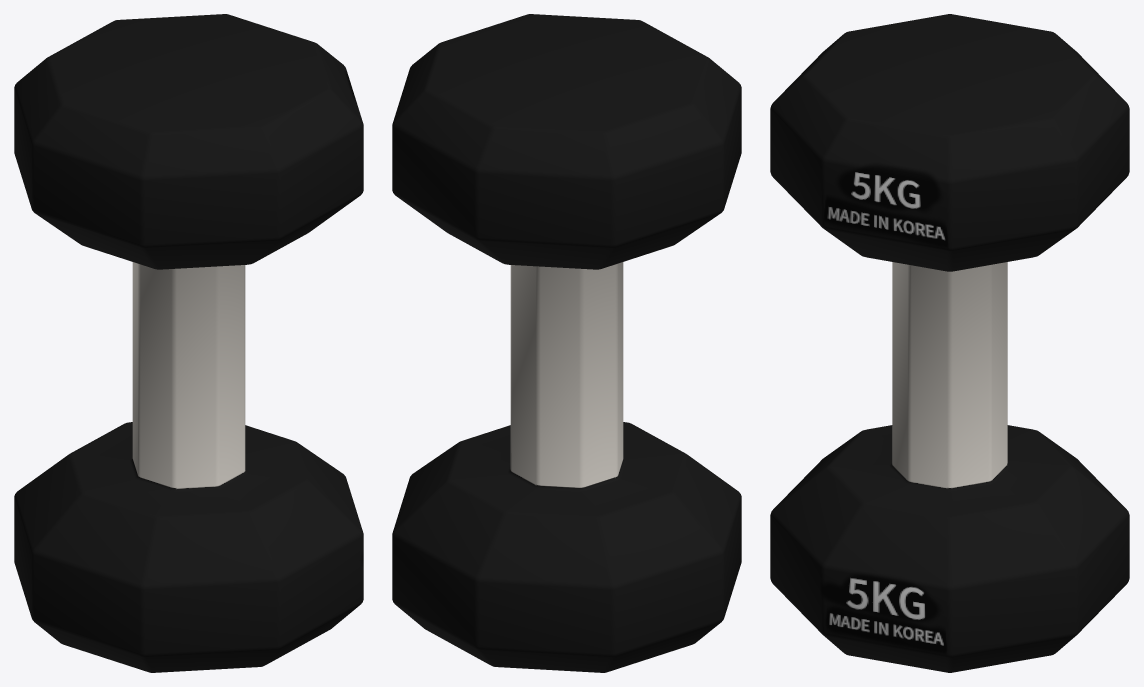
Rendered from helth_machine_001_final.fbx.
The picture shows the model from 3 angles, left to right: view 1: azimuth 30°, elevation 25°; view 2: azimuth 150°, elevation 25°; view 3: azimuth 270°, elevation 25°; orthographic projection.
Visible parts, largest first — view 1: Cylinder; view 2: Cylinder; view 3: Cylinder.
Boxes of the visible parts, box(x1,y1,x2,y2) form: Cylinder: box(14, 14, 363, 672); Cylinder: box(392, 14, 741, 672); Cylinder: box(770, 14, 1129, 672).
Size of the model in its own units: 199 by 329 by 199.
1 material, 1 textured.
